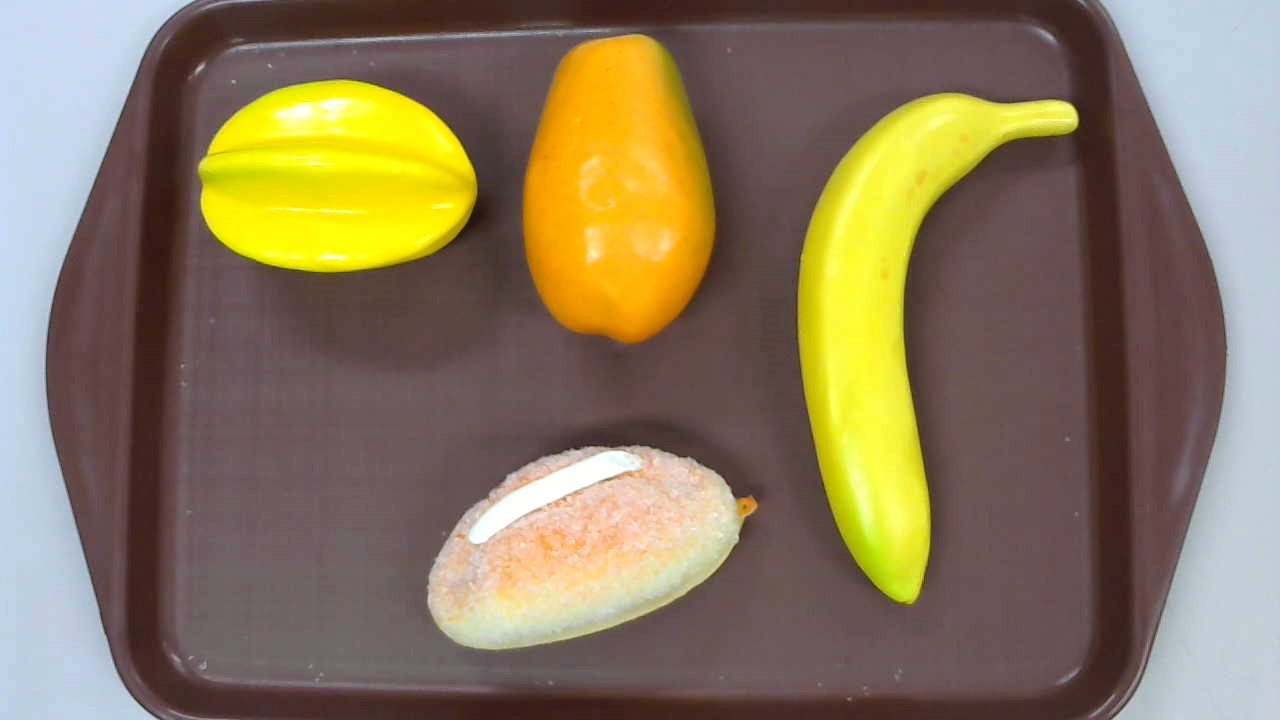banana: (797, 93, 1078, 603)
coconut: (426, 445, 759, 650)
papya: (522, 34, 715, 342)
star fruit: (194, 79, 478, 274)
